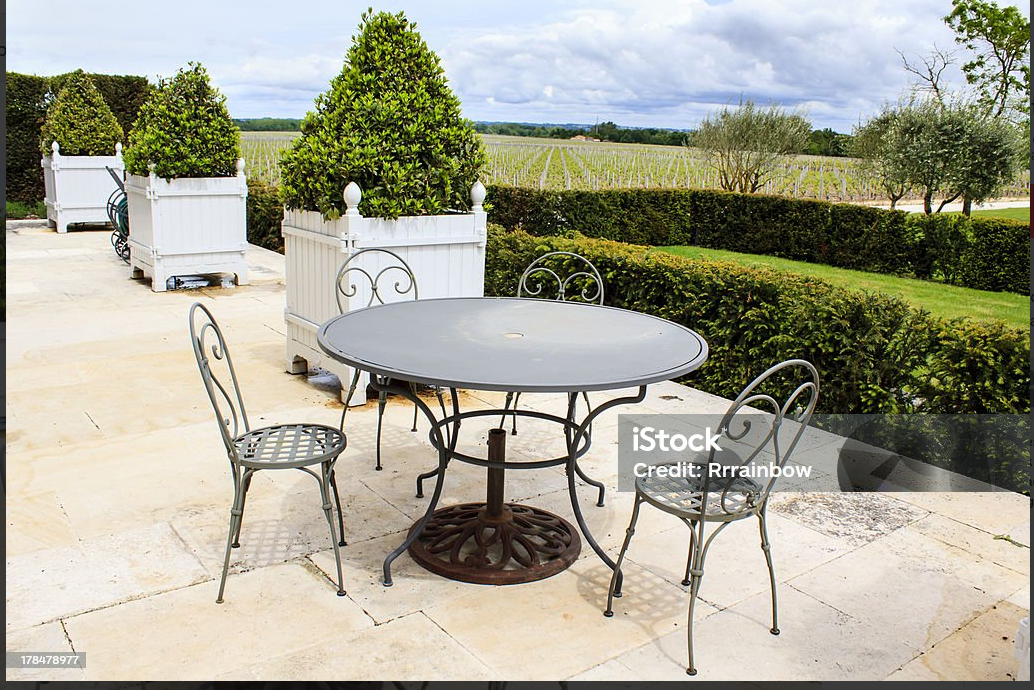obstacle: (324, 297, 710, 580), (618, 354, 825, 667), (273, 16, 491, 290), (181, 301, 348, 598), (121, 69, 250, 288), (35, 74, 129, 230)
